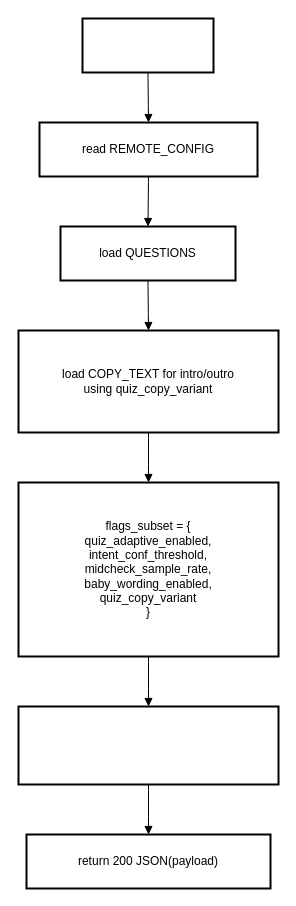
Some shapes in this 296 by 906 pixel diagram are drawn without their labels. Here are the shapes that lost their labels. From the top down, the centre of each, then its label:
(147,45): GET /quiz
(148,745): payload = { questions, copy, flags_subset }
